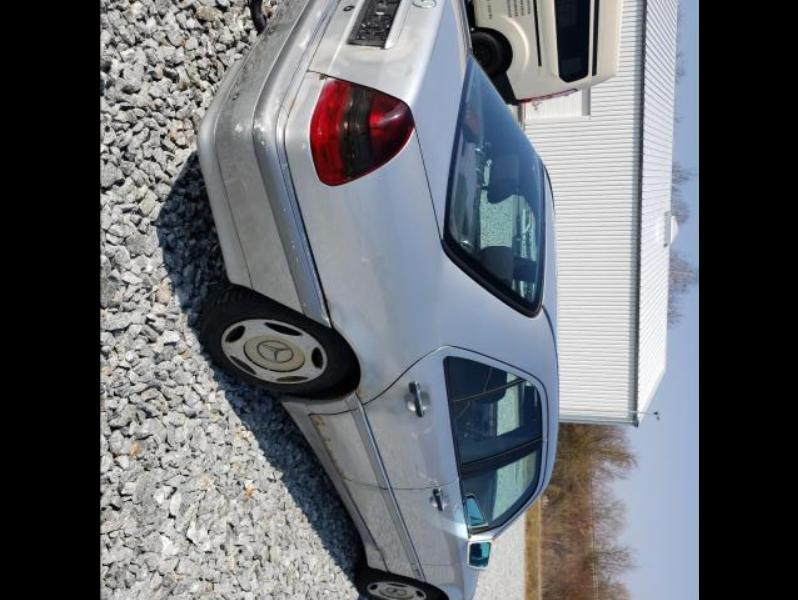Broken part: (364, 551, 388, 572)
Corrosion: (302, 409, 353, 483), (352, 384, 372, 404), (285, 99, 295, 121), (315, 72, 333, 82), (355, 384, 366, 400)
Dent: (365, 535, 392, 573), (381, 59, 412, 80)
Missing part: (349, 0, 399, 45)
Paint chip: (288, 235, 299, 264), (319, 313, 331, 329), (258, 139, 267, 152), (278, 162, 286, 171), (301, 298, 307, 306), (280, 208, 285, 211)
Scratch: (231, 114, 264, 134)
